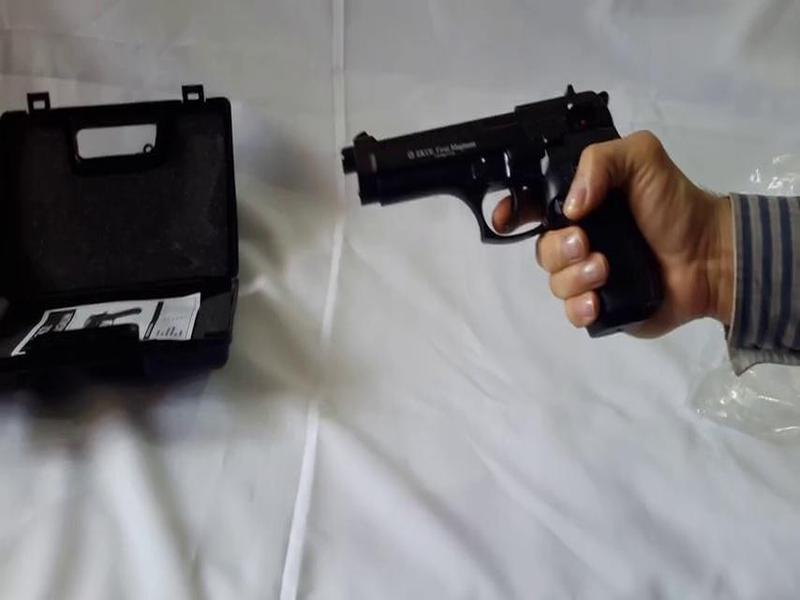Pistola: (341, 80, 689, 339)
